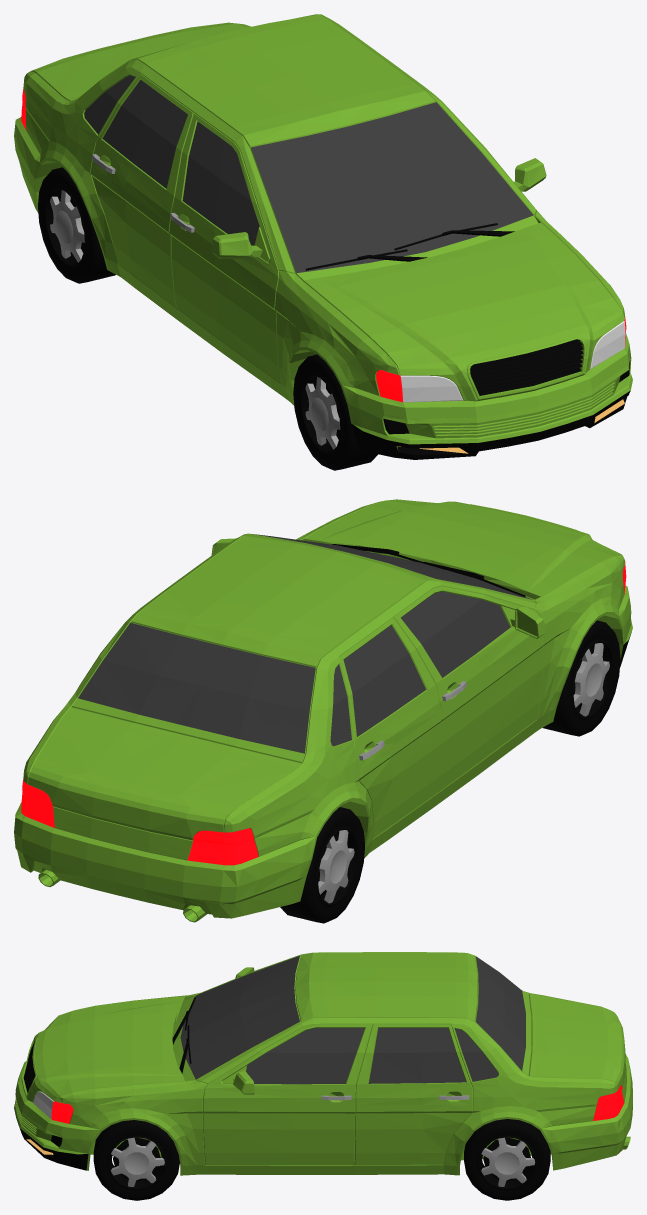
The model's file is AutoVerde.fbx.
3 renders of one model, top to bottom at view 1: azimuth 30°, elevation 25°; view 2: azimuth 150°, elevation 25°; view 3: azimuth 270°, elevation 25°, orthographic. The views are drawn at different scales.
Parts seen in each view (by area): view 1: Wheel_A002.007; view 2: Wheel_A002.007; view 3: Wheel_A002.007.
Boxes of the visible parts, bbox=[...] form: Wheel_A002.007: bbox=[14, 14, 632, 470]; Wheel_A002.007: bbox=[14, 499, 632, 923]; Wheel_A002.007: bbox=[14, 952, 632, 1200].
Size of the model in its own units: 218 by 151 by 491.
